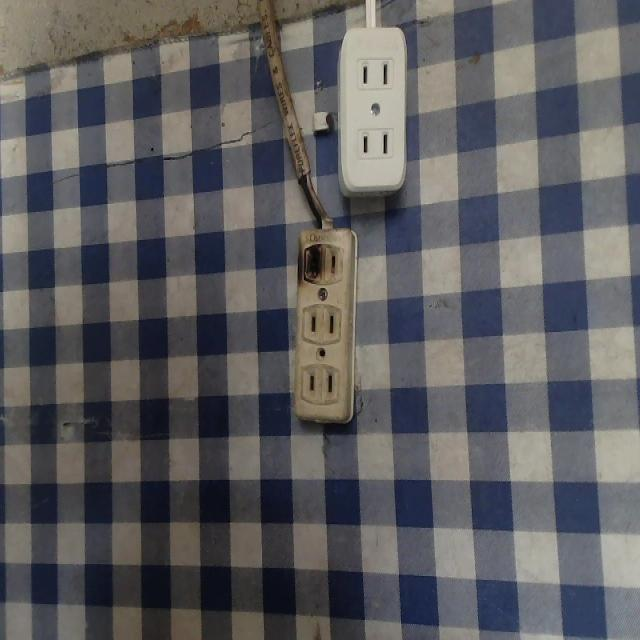-: (296, 236, 328, 285)
